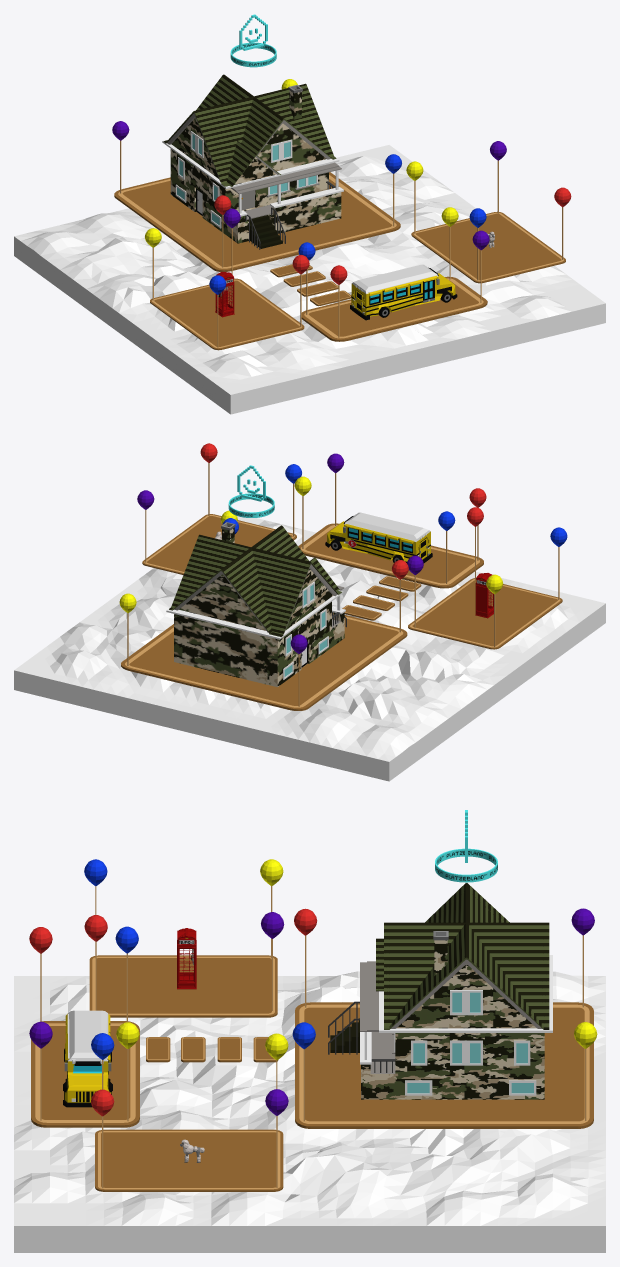
3 views of the same model, one above another, from view 1: azimuth 30°, elevation 25°; view 2: azimuth 150°, elevation 25°; view 3: azimuth 270°, elevation 25° (orthographic). The views are drawn at different scales.
Parts seen in each view (by area): view 1: Cube.013, Cube.001, VEHICLES_SCHOOL_BUS, TYPE_PREMIUM, OBJRANDOM_PHONEBOOTH; view 2: Cube.013, Cube.001, VEHICLES_SCHOOL_BUS, TYPE_PREMIUM, OBJRANDOM_PHONEBOOTH; view 3: Cube.013, Cube.001, VEHICLES_SCHOOL_BUS, TYPE_PREMIUM, OBJRANDOM_PHONEBOOTH.
Part boxes in pixels (x1,y1,x2,y2): Cube.013: [14, 79, 605, 414]; Cube.001: [162, 74, 343, 249]; VEHICLES_SCHOOL_BUS: [350, 264, 457, 320]; TYPE_PREMIUM: [230, 14, 276, 67]; OBJRANDOM_PHONEBOOTH: [215, 272, 234, 317]; Cube.013: [14, 443, 605, 781]; Cube.001: [166, 522, 346, 687]; VEHICLES_SCHOOL_BUS: [325, 512, 432, 563]; TYPE_PREMIUM: [228, 465, 274, 517]; OBJRANDOM_PHONEBOOTH: [475, 573, 493, 618]; Cube.013: [14, 859, 605, 1252]; Cube.001: [328, 883, 552, 1099]; VEHICLES_SCHOOL_BUS: [63, 1010, 112, 1107]; TYPE_PREMIUM: [435, 810, 497, 882]; OBJRANDOM_PHONEBOOTH: [177, 928, 196, 989].
Bounding box in the file's own units: 4000 × 2544 × 4000.
43 materials, 4 textured.
